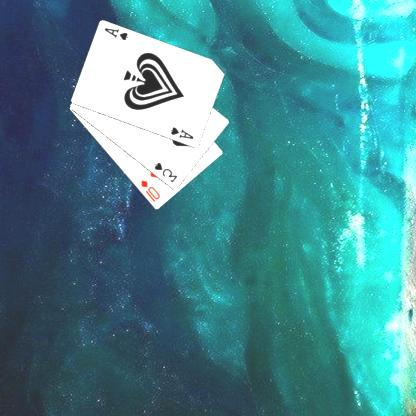10D: (140, 177, 163, 204)
3S: (154, 160, 180, 184)
AS: (103, 25, 131, 42), (170, 125, 196, 141)
